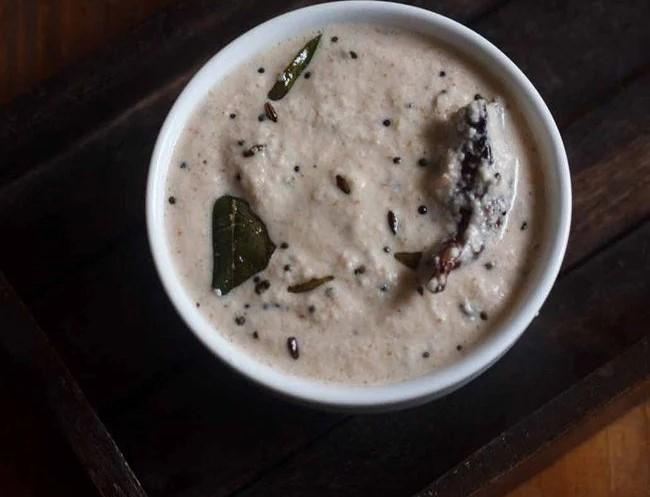CoconutChutney: (162, 21, 549, 385)
